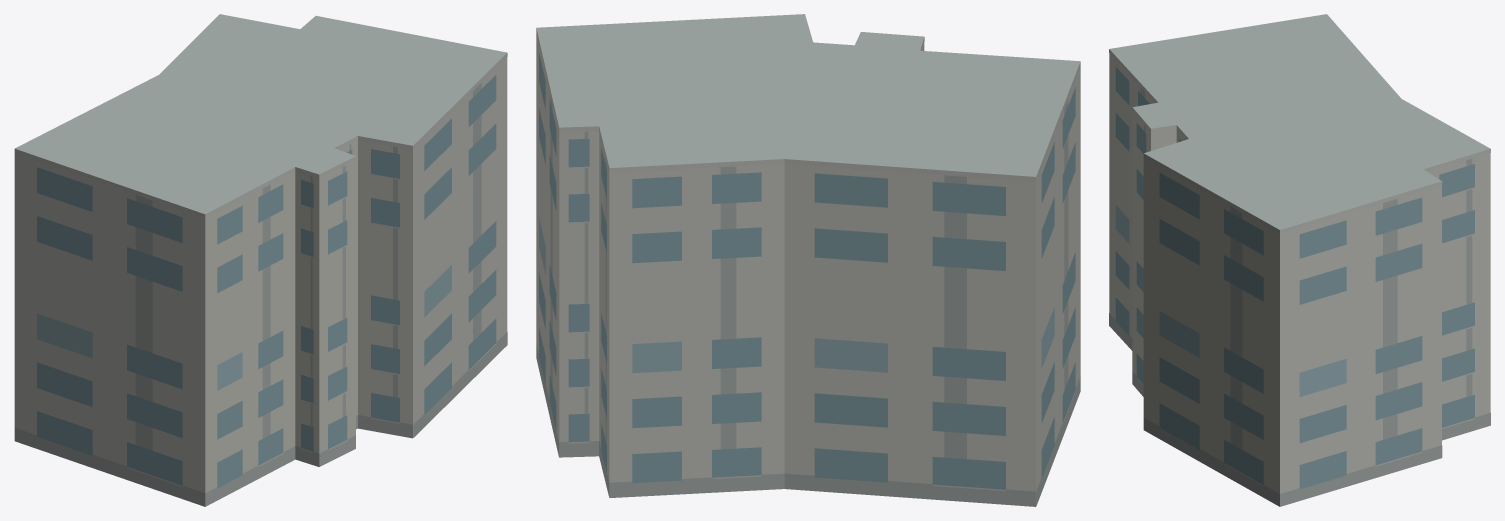
The model's file is survey-upis-32849594.glb.
The picture shows the model from 3 angles, left to right: view 1: azimuth 30°, elevation 25°; view 2: azimuth 150°, elevation 25°; view 3: azimuth 270°, elevation 25°; orthographic projection. The views are drawn at different scales.
Parts seen in each view (by area): view 1: survey-upis-32849594.tmp; view 2: survey-upis-32849594.tmp; view 3: survey-upis-32849594.tmp.
Boxes of the visible parts, x1=… form: survey-upis-32849594.tmp: x1=14, y1=14, x2=507, y2=506; survey-upis-32849594.tmp: x1=536, y1=14, x2=1080, y2=506; survey-upis-32849594.tmp: x1=1109, y1=14, x2=1490, y2=506.
Size of the model in its own units: 27.29 by 16.3 by 20.37.
